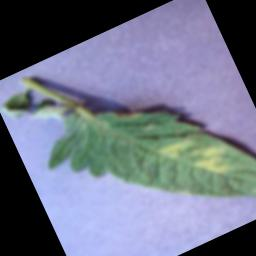Leaf_Mold: (155, 118, 240, 195)
